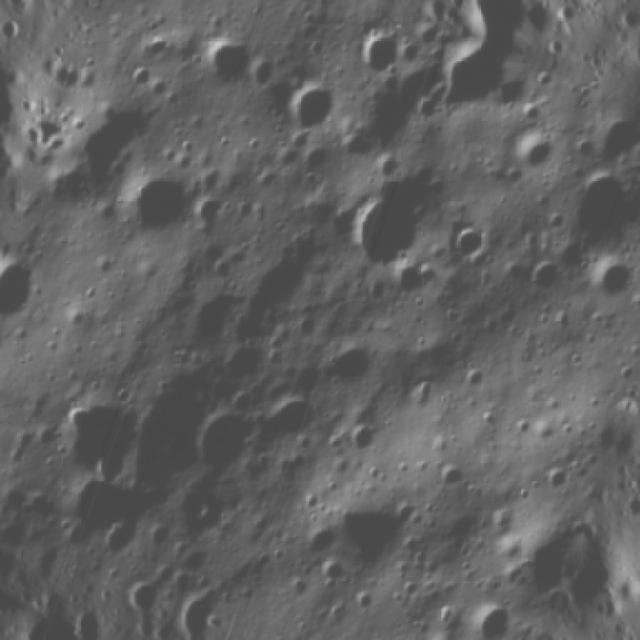crater: (99, 353, 239, 513), (58, 78, 162, 193), (39, 380, 146, 491), (414, 30, 524, 136), (331, 181, 432, 284), (104, 153, 201, 253), (183, 398, 271, 491), (557, 160, 640, 258), (322, 478, 413, 564), (173, 268, 255, 358), (55, 469, 138, 556), (271, 71, 344, 146), (195, 25, 267, 98), (253, 382, 327, 453), (339, 21, 410, 88), (0, 253, 52, 339), (184, 179, 241, 247), (503, 119, 563, 181), (322, 331, 380, 391), (442, 216, 498, 276), (240, 42, 294, 102), (591, 248, 640, 310), (384, 254, 434, 311), (468, 597, 526, 640), (530, 456, 576, 504), (337, 415, 381, 463), (138, 511, 180, 560), (523, 256, 565, 301), (298, 520, 340, 562), (431, 456, 467, 496), (428, 634, 475, 640)
